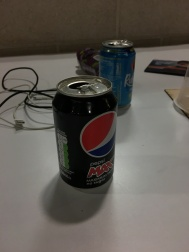can_black: (44, 72, 122, 194)
can_blue: (95, 35, 141, 115)
